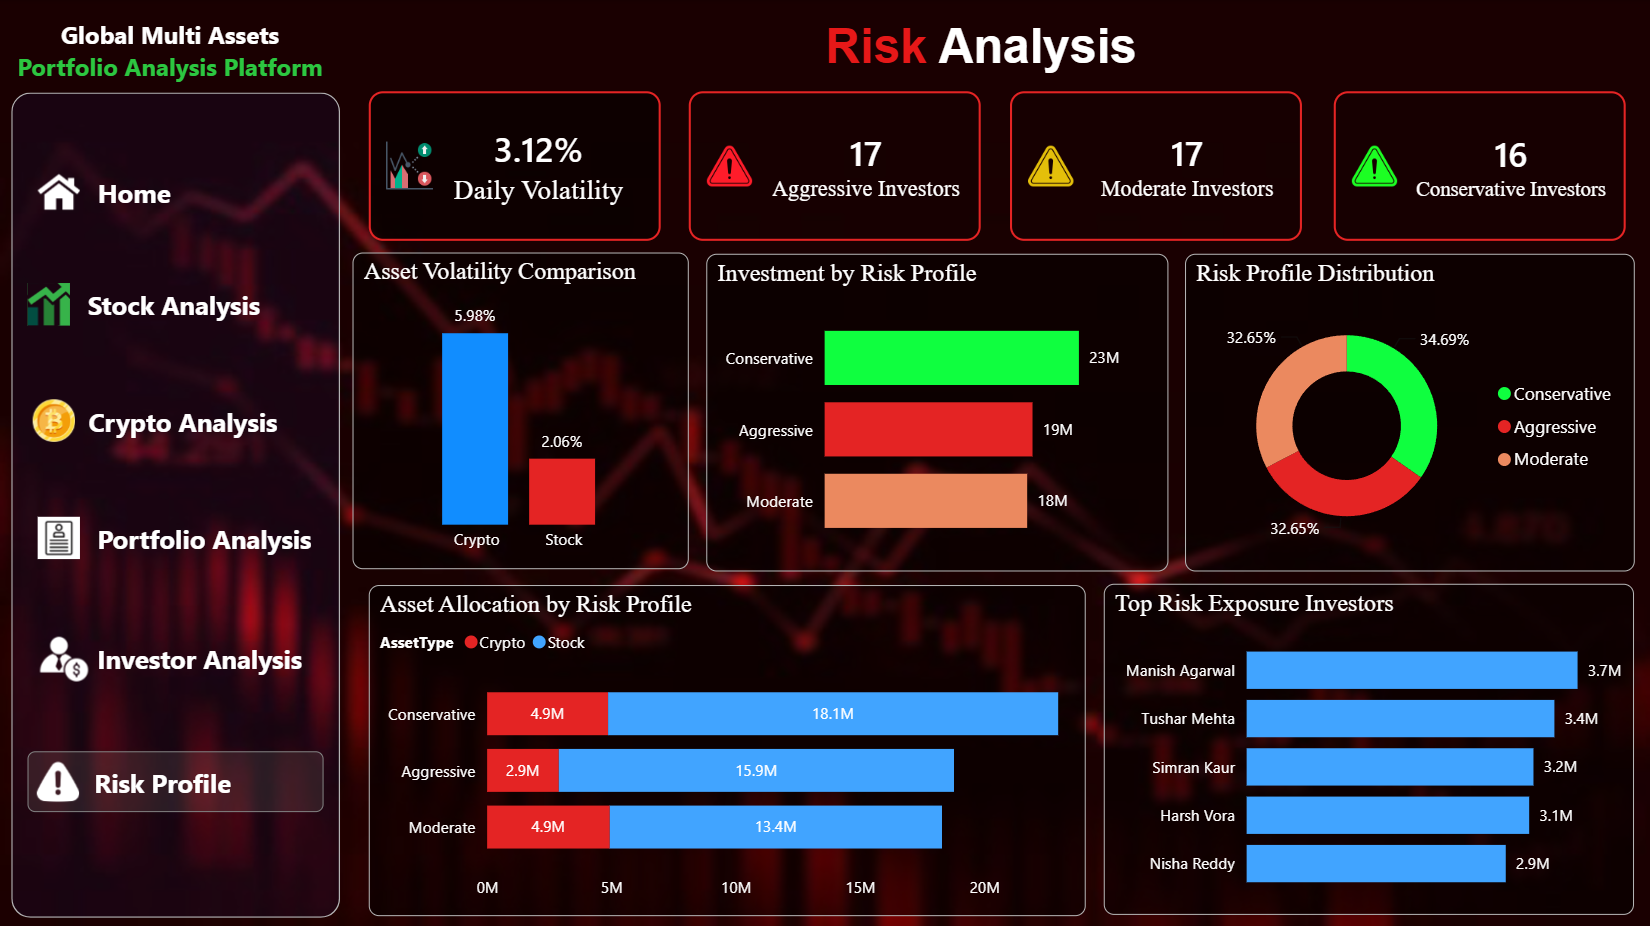

This screenshot's page, from the dashboard's own definition file:
{"tool":"powerbi","page":{"name":"Risk Profile","canvas":[1280,720],"ordinal":5},"visuals":[{"type":"textbox","box":[0,10,263.8,72.5],"z":0},{"type":"shape","box":[8.8,71.2,255,640],"z":1000},{"type":"cardVisual","fields":{"Data":["Measure.Daily Volatile %"]},"box":[286,70.9,226.7,116.3],"z":2000},{"type":"actionButton","box":[25,125,111.2,47.5],"z":2000,"group":"g1"},{"type":"cardVisual","fields":{"Data":["Measure.Moderate Investors"]},"box":[783.6,70.7,226.6,116.4],"z":3000},{"type":"actionButton","box":[21.7,302.7,228.1,48],"z":3000,"group":"g1"},{"type":"cardVisual","fields":{"Data":["Measure.Risk Profile"]},"box":[534.2,70.7,226.6,116.4],"z":4000},{"type":"cardVisual","fields":{"Data":["Measure.Conservative Investors"]},"box":[1034.1,70.7,226.6,116.4],"z":5000},{"type":"actionButton","box":[17.7,212,234.9,47.8],"z":5000,"group":"g1"},{"type":"columnChart","title":"Asset Volatility Comparison","fields":{"Category":["Dim_Assets.AssetType"],"Y":["Measure.Daily Volatile %"]},"box":[273.3,195.4,260.9,245.3],"z":6000},{"type":"actionButton","box":[25,393.9,220.3,46.8],"z":6000,"group":"g1"},{"type":"barChart","title":"Investment by Risk Profile","fields":{"Category":["Dim_Investors.RiskProfile"],"Y":["Measure.Total Investment"]},"box":[547.7,196.4,358.5,246.3],"z":7000},{"type":"donutChart","title":"Risk Profile Distribution","fields":{"Category":["Dim_Investors.RiskProfile"],"Y":["Measure.Risk Profile %"]},"box":[918.7,196.4,349.2,246.3],"z":8000},{"type":"actionButton","box":[25,486.4,213,46.8],"z":8000,"group":"g1"},{"type":"barChart","title":"Asset Allocation by Risk Profile","fields":{"Category":["Dim_Investors.RiskProfile"],"Series":["Dim_Assets.AssetType"],"Y":["Measure.Total Investment"]},"box":[286,453.5,555.8,257],"z":9000},{"type":"barChart","title":"Top Risk Exposure Investors","fields":{"Category":["Dim_Investors.InvestorName"],"Y":["Measure.Risk Exposure"]},"box":[856.4,453.1,411.5,256.7],"z":10000},{"type":"actionButton","box":[21.7,582.5,229.3,46.8],"z":10000,"group":"g1"},{"type":"group","id":"g1","title":"Group 1","box":[17.7,125,234.9,504.3],"z":11000},{"type":"textbox","box":[595.4,9.3,331.4,54.7],"z":12000}]}

Visuals, with their boxes in screenshot pixels (x1, y1, x2, y2), scaled from the page's 1280x720 canvas onto the 1650x926 screenshot:
textbox: bbox(0, 13, 340, 106)
shape: bbox(11, 92, 340, 915)
cardVisual - Measure.Daily Volatile %: bbox(369, 91, 661, 241)
actionButton: bbox(32, 161, 176, 222)
cardVisual - Measure.Moderate Investors: bbox(1010, 91, 1302, 241)
actionButton: bbox(28, 389, 322, 451)
cardVisual - Measure.Risk Profile: bbox(689, 91, 981, 241)
cardVisual - Measure.Conservative Investors: bbox(1333, 91, 1625, 241)
actionButton: bbox(23, 273, 326, 334)
"Asset Volatility Comparison" columnChart: bbox(352, 251, 689, 567)
actionButton: bbox(32, 507, 316, 567)
"Investment by Risk Profile" barChart: bbox(706, 253, 1168, 569)
"Risk Profile Distribution" donutChart: bbox(1184, 253, 1634, 569)
actionButton: bbox(32, 626, 307, 686)
"Asset Allocation by Risk Profile" barChart: bbox(369, 583, 1085, 914)
"Top Risk Exposure Investors" barChart: bbox(1104, 583, 1634, 913)
actionButton: bbox(28, 749, 324, 809)
"Group 1" group: bbox(23, 161, 326, 809)
textbox: bbox(768, 12, 1195, 82)
